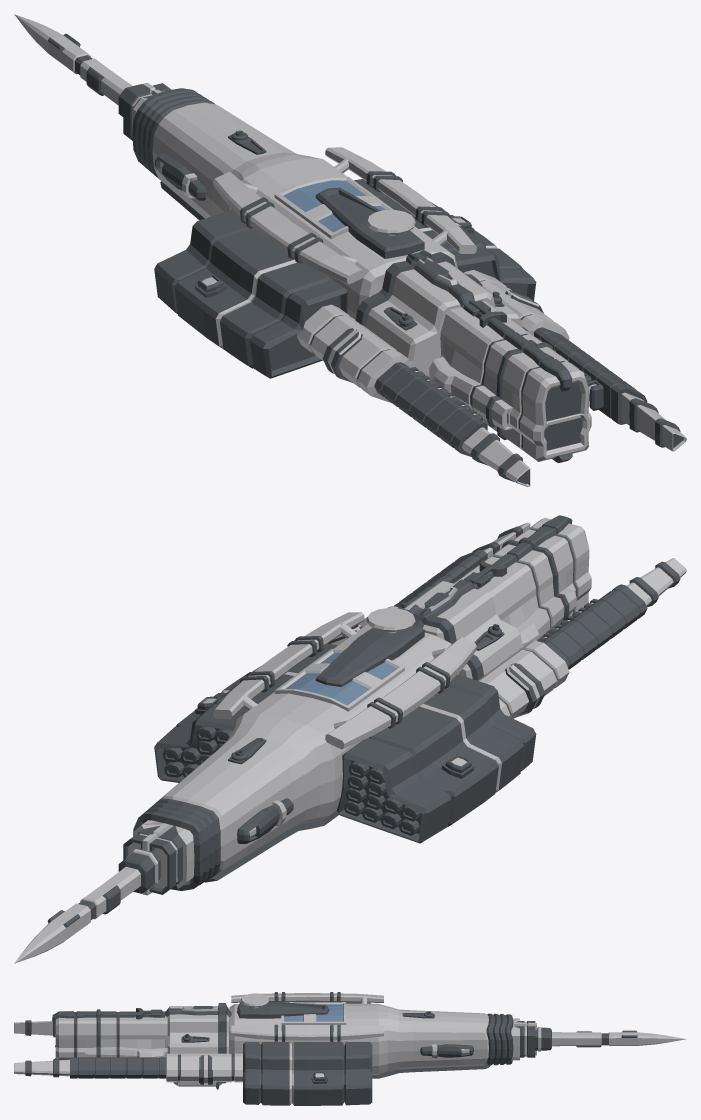
The model's file is Mothership_02_Neutral.fbx.
3 renders of one model, top to bottom at view 1: azimuth 30°, elevation 25°; view 2: azimuth 150°, elevation 25°; view 3: azimuth 270°, elevation 25°, orthographic. The views are drawn at different scales.
Parts seen in each view (by area): view 1: Mothership_02_Neutral; view 2: Mothership_02_Neutral; view 3: Mothership_02_Neutral.
Boxes of the visible parts, <box> form: Mothership_02_Neutral: <box>14,14,686,486</box>; Mothership_02_Neutral: <box>14,515,686,963</box>; Mothership_02_Neutral: <box>14,992,686,1105</box>.
Bounding box in the file's own units: 2667 × 1241 × 9550.
Materials: 3 (3 with a texture image).
